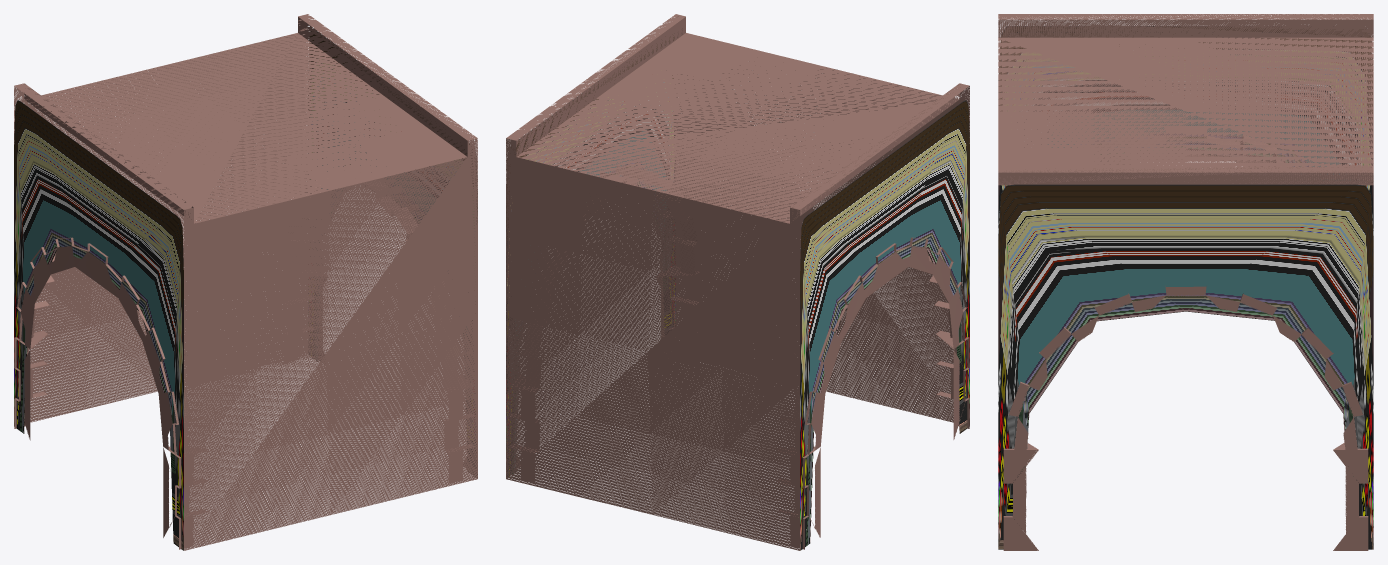
Rendered from SW_ENV_WalledStraight_DoubleTrack_Tall_Collision.fbx.
The picture shows the model from 3 angles, left to right: view 1: azimuth 30°, elevation 25°; view 2: azimuth 150°, elevation 25°; view 3: azimuth 270°, elevation 25°; orthographic projection. The views are drawn at different scales.
Visible parts, largest first — view 1: SW_ENV_WalledStraight_DoubleTrack_Tall_Collision; view 2: SW_ENV_WalledStraight_DoubleTrack_Tall_Collision; view 3: SW_ENV_WalledStraight_DoubleTrack_Tall_Collision.
Part boxes in pixels (x1,y1,x2,y2): SW_ENV_WalledStraight_DoubleTrack_Tall_Collision: (14,14,477,550); SW_ENV_WalledStraight_DoubleTrack_Tall_Collision: (506,14,969,550); SW_ENV_WalledStraight_DoubleTrack_Tall_Collision: (998,14,1373,550).
Size of the model in its own units: 10.16 by 11.08 by 10.
